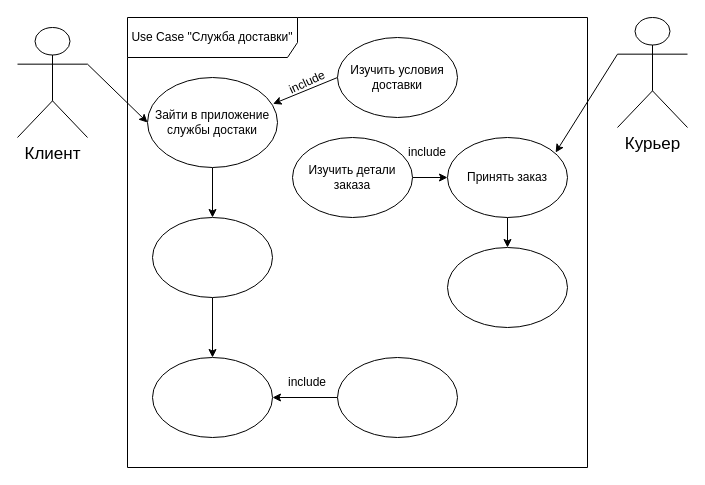
Image size: 705x485. Some labels were removed from this diagram. The shapes that lost their labels are listed below. From the top down, each one's centre as x and y in pixels, then its label:
At pixel 212 257: "Оформить заказ".
At pixel 507 287: "Приступить к выполнению заказа".
At pixel 212 397: "Оплатить заказ".
At pixel 397 397: "Ввести данные банковской карты".
